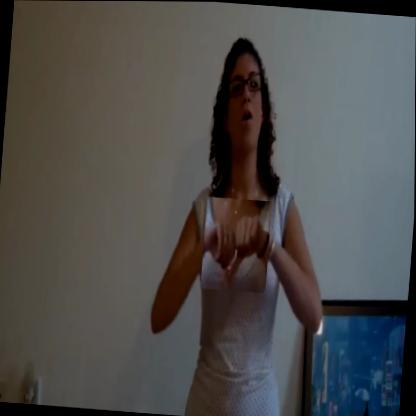HowAreYou: (201, 196, 272, 293)
